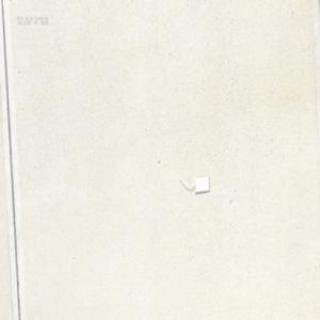LuggageTagtrack_idkeyframe: (177, 175, 209, 192)
